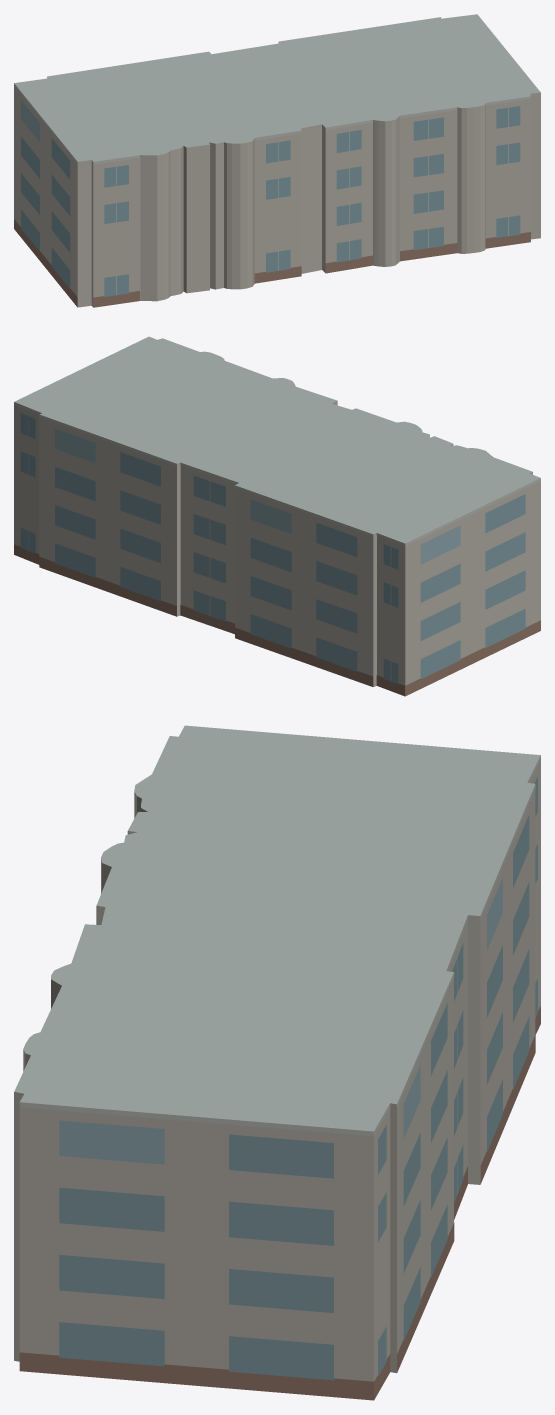
Rendered from survey-upis-32676894.glb.
3 renders of one model, top to bottom at view 1: azimuth 30°, elevation 25°; view 2: azimuth 150°, elevation 25°; view 3: azimuth 270°, elevation 25°, orthographic. The views are drawn at different scales.
Visible parts, largest first — view 1: survey-upis-32676894.tmp; view 2: survey-upis-32676894.tmp; view 3: survey-upis-32676894.tmp.
Part boxes in pixels (box(x1,y1,x2,y2)): survey-upis-32676894.tmp: box(14, 14, 540, 307); survey-upis-32676894.tmp: box(14, 336, 540, 696); survey-upis-32676894.tmp: box(14, 725, 540, 1400).
Bounding box in the file's own units: 42.75 × 13.2 × 23.44.
